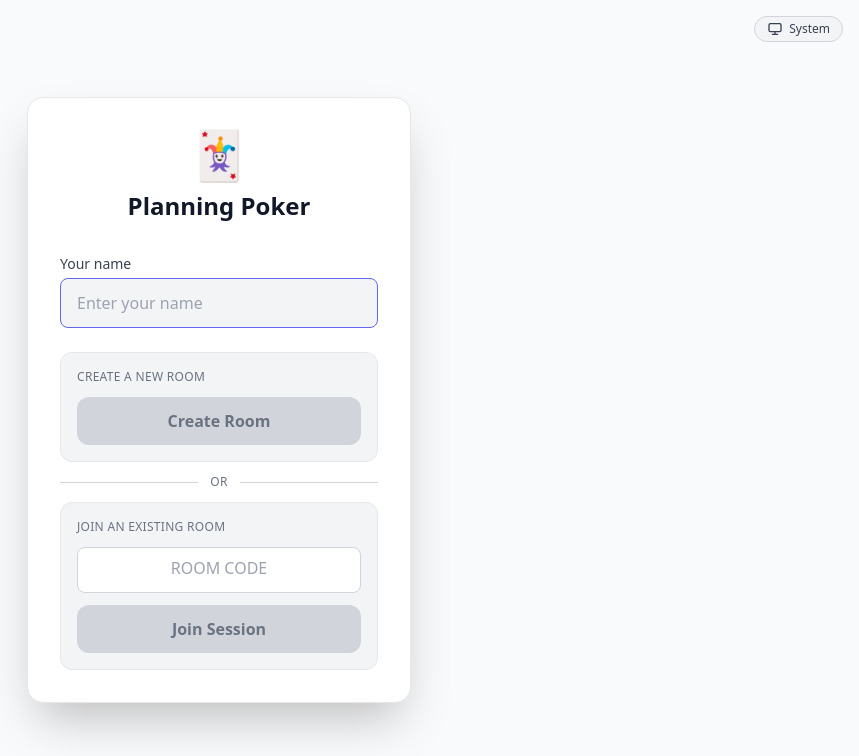
Scenario: HomeScreen › disables Join until both a name and a 6-char code are present
Expected: the button "Join Session" is disabled, [77, 605, 361, 653]
In the field with placeholder "Enter your name": (219, 303) [60, 278, 378, 328], type "Bob"
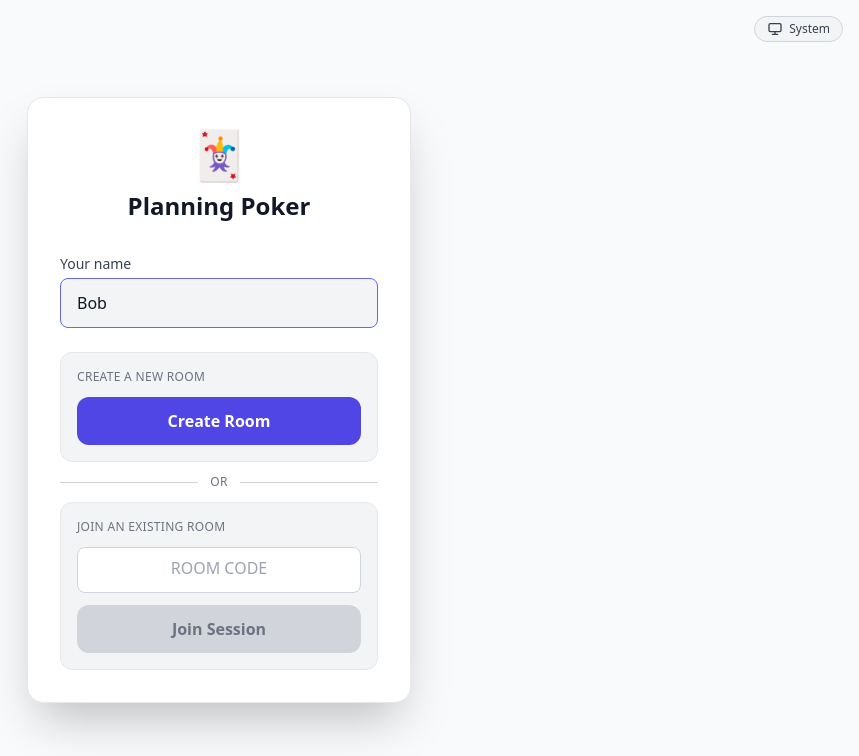
Expected: the button "Join Session" is disabled, [77, 605, 361, 653]
In the field with placeholder "Room code": (219, 570) [77, 547, 361, 593], type "ABC23"
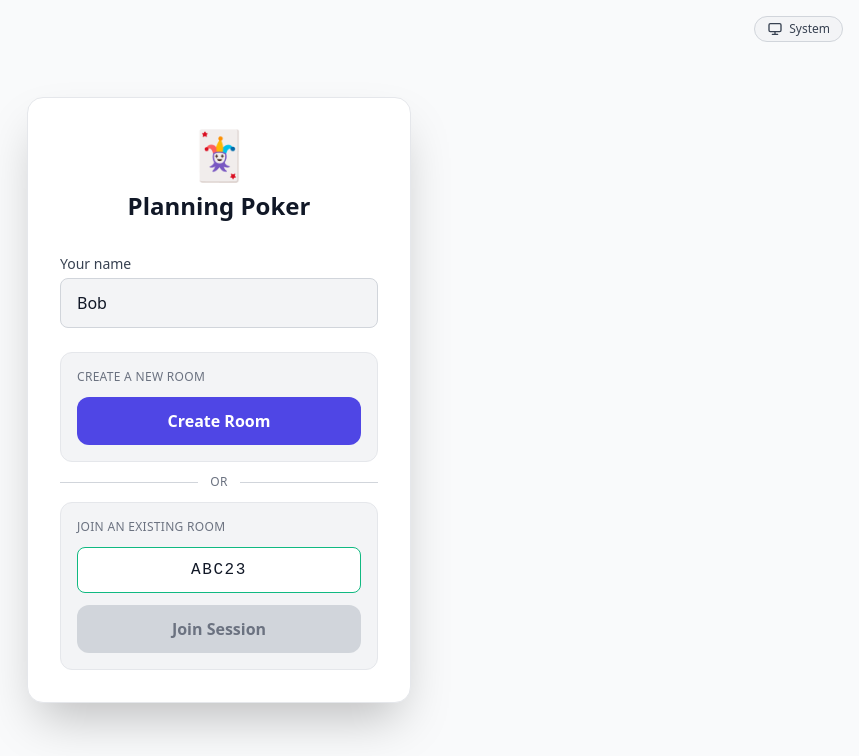
Expected: the button "Join Session" is disabled, [77, 605, 361, 653]
In the field with placeholder "Room code" below "Join an existing room": (219, 570) [77, 547, 361, 593], type "4"
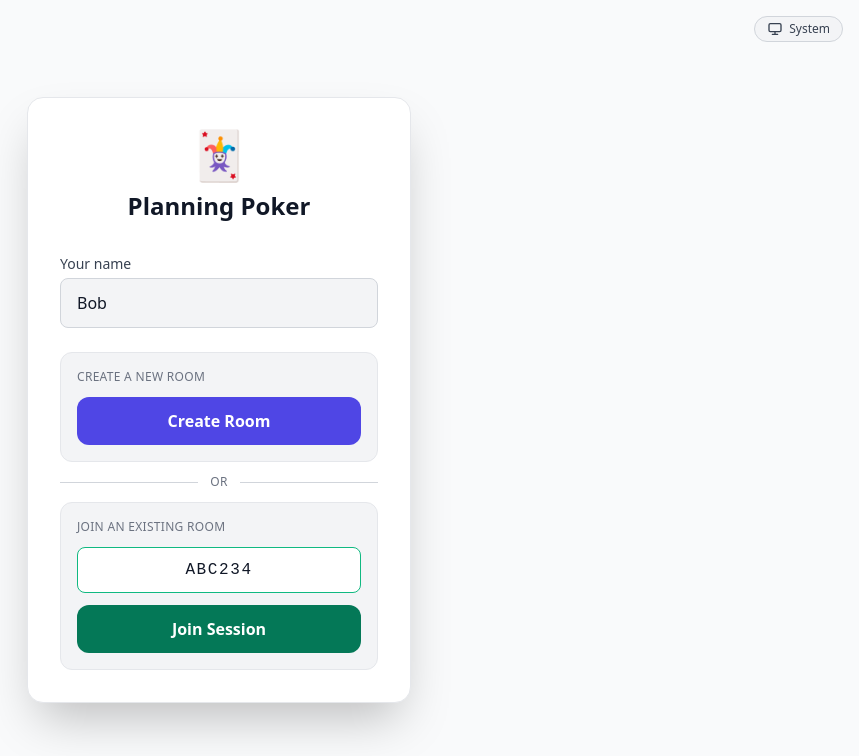
Expected: the button "Join Session" is enabled, [77, 605, 361, 653]
